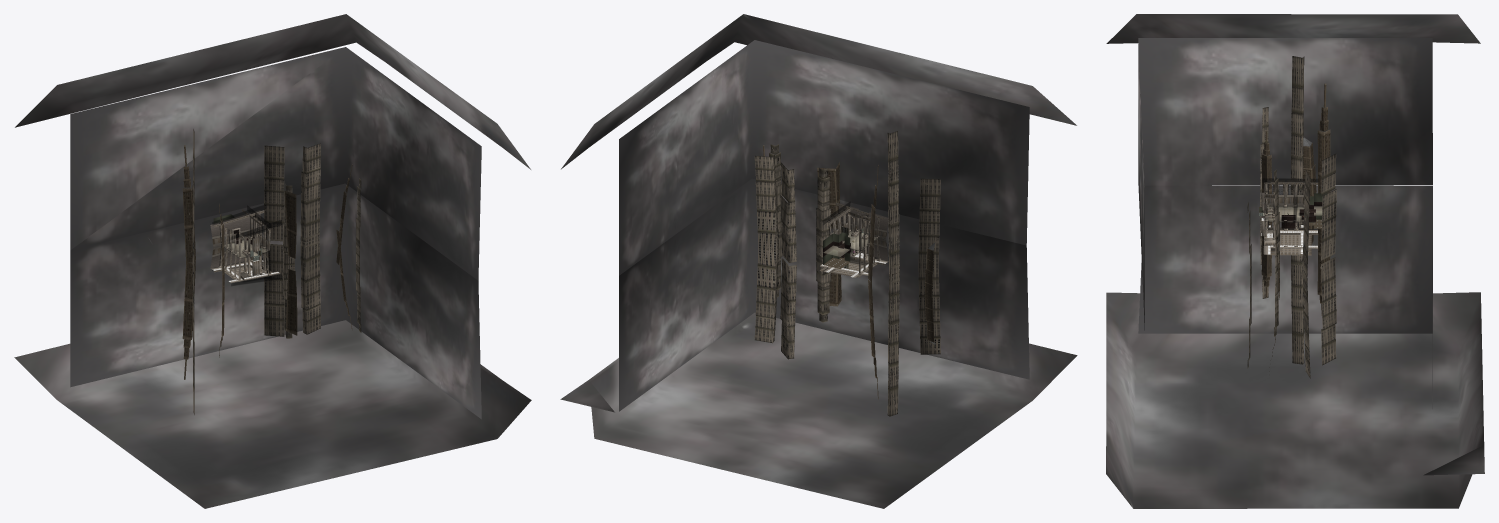
Rendered from lawbot_cj.glb.
3 views of the same model, side by side, from view 1: azimuth 30°, elevation 25°; view 2: azimuth 150°, elevation 25°; view 3: azimuth 270°, elevation 25° (orthographic). The views are drawn at different scales.
Parts seen in each view (by area): view 1: LB_SkySides (×2), LB_SkyTop (×2), LB_BLD1 (×2), LB_BLD12 (×2), LB_BLD11 (×2), LB_BLD4 (×2), CR3_Walls_19; view 2: LB_SkySides (×2), LB_SkyTop (×2), LB_BLD1 (×2), LB_BLD21 (×2), LB_BLD14 (×2), LB_BLD12 (×2), LB_BLD20 (×2), LB_BLD4; view 3: LB_SkyTop (×2), LB_SkySides (×2), LB_BLD21 (×2), LB_BLD12 (×2), LB_BLD1 (×2), LB_BLD11, LB_BLD18, CR3_Ceiling, LB_BLD5.
Boxes of the visible parts, <box> form: LB_SkySides (×2): <box>70,47,481,419</box>; LB_SkyTop (×2): <box>14,14,531,508</box>; LB_BLD1 (×2): <box>300,143,320,334</box>; LB_BLD12 (×2): <box>264,145,284,336</box>; LB_BLD11 (×2): <box>182,145,195,379</box>; LB_BLD4 (×2): <box>284,190,297,335</box>; CR3_Walls_19: <box>210,210,260,246</box>; LB_SkySides (×2): <box>619,40,1029,411</box>; LB_SkyTop (×2): <box>560,14,1077,508</box>; LB_BLD1 (×2): <box>754,155,778,343</box>; LB_BLD21 (×2): <box>887,131,899,416</box>; LB_BLD14 (×2): <box>918,178,940,354</box>; LB_BLD12 (×2): <box>780,162,796,359</box>; LB_BLD20 (×2): <box>816,168,830,322</box>; LB_BLD4: <box>817,162,839,228</box>; LB_SkyTop (×2): <box>1106,14,1484,508</box>; LB_SkySides (×2): <box>1138,38,1432,408</box>; LB_BLD21 (×2): <box>1290,56,1304,364</box>; LB_BLD12 (×2): <box>1321,153,1336,365</box>; LB_BLD1 (×2): <box>1302,169,1310,378</box>; LB_BLD11: <box>1317,83,1330,193</box>; LB_BLD18: <box>1303,137,1316,196</box>; CR3_Ceiling: <box>1270,235,1311,255</box>; LB_BLD5: <box>1261,130,1272,223</box>.
Bounding box in the file's own units: 2251 × 1968 × 1980.
38 materials, 36 textured.
